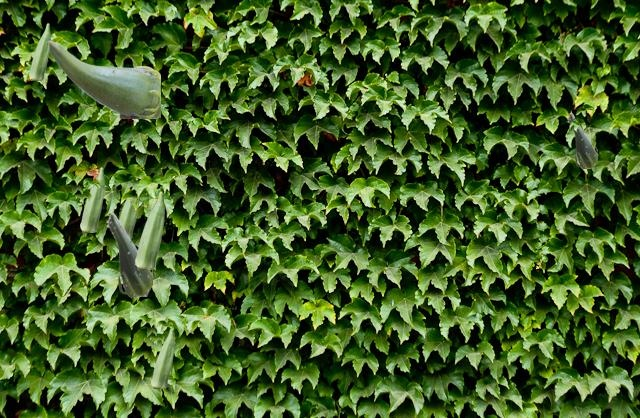okra: (47, 40, 159, 117), (106, 210, 151, 295), (135, 191, 163, 268), (567, 111, 596, 167), (80, 167, 103, 231), (151, 327, 173, 387), (119, 178, 138, 238), (29, 23, 49, 79)
